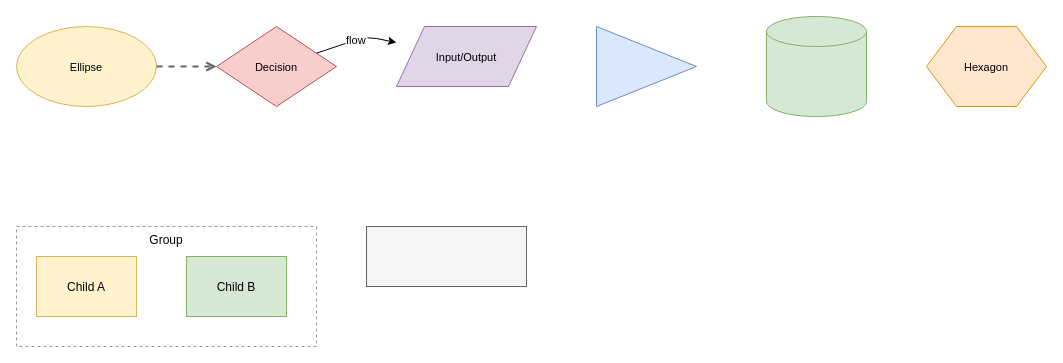
The diagram is 1063 pixels wide and 363 high, and some of its shapes have lost their labels. The centre of each missing label's shape, as x and y in pixels:
"Bold Italic" goes at (446,256).
"Database" goes at (816,66).
"Triangle" goes at (646,66).
